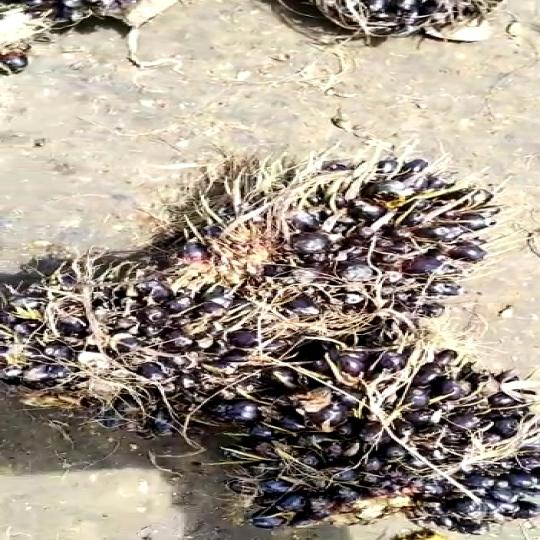mentah: (170, 353, 540, 535), (178, 134, 531, 318), (0, 247, 281, 437)
